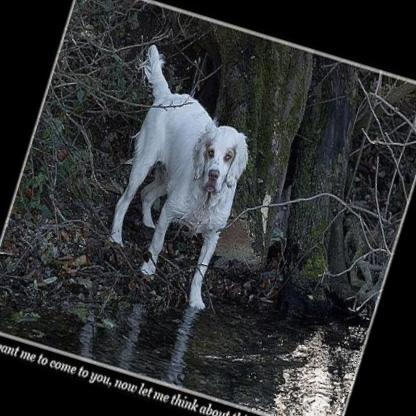clumber: (66, 37, 276, 314)
